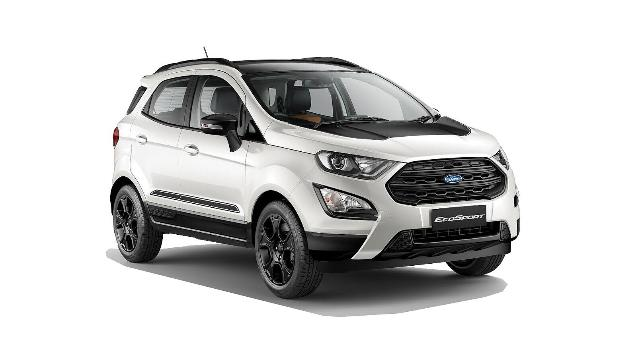ford: (110, 46, 520, 300)
